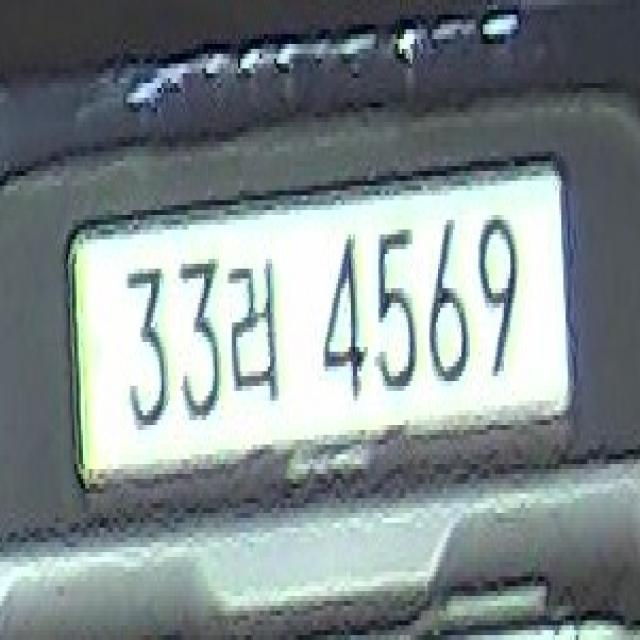plat: (64, 149, 577, 491)
